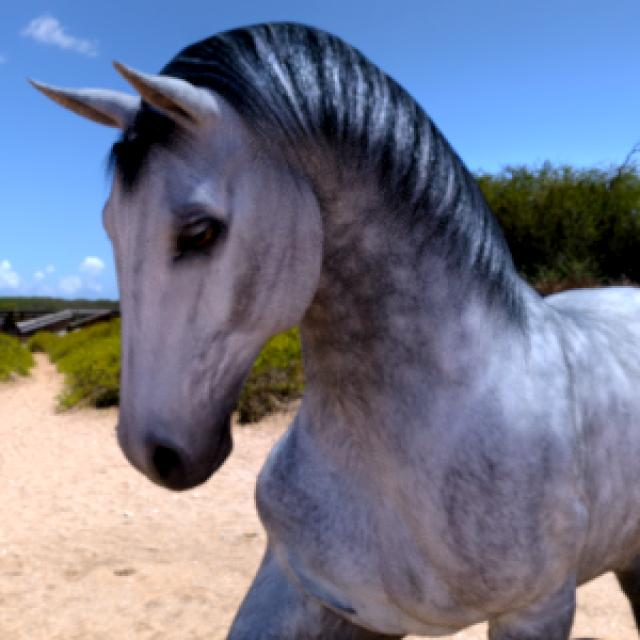horse: (34, 24, 640, 640)
